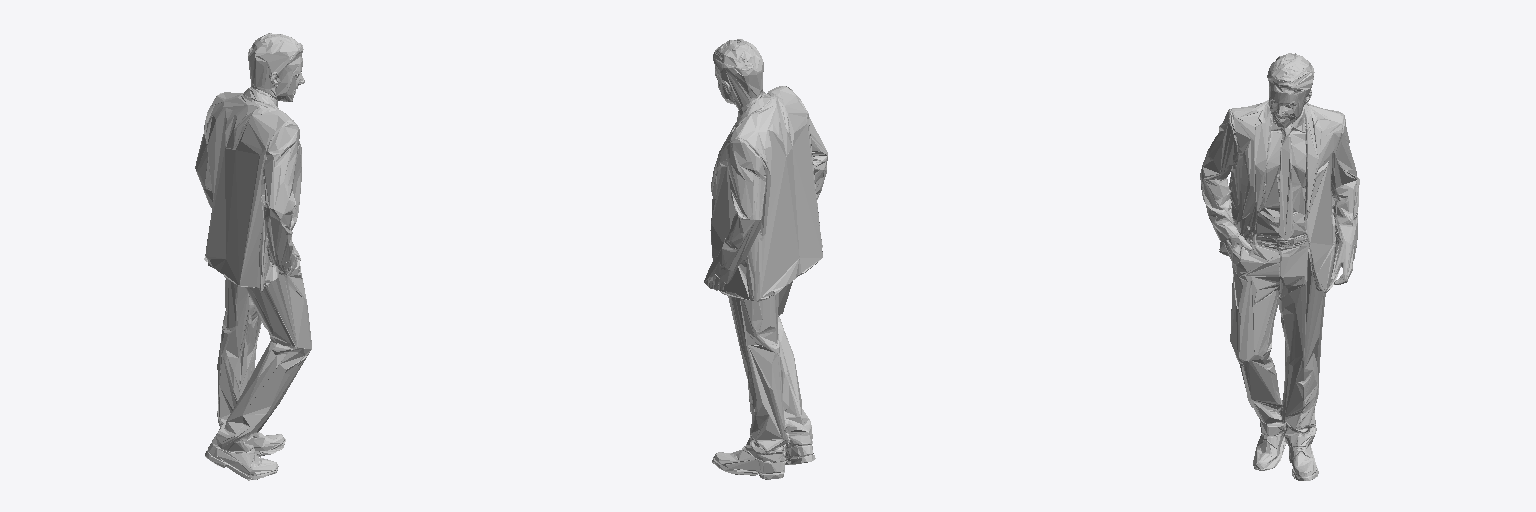
File: denis.obj
3 renders of one model, left to right at view 1: azimuth 30°, elevation 25°; view 2: azimuth 150°, elevation 25°; view 3: azimuth 270°, elevation 25°, orthographic.
Parts seen in each view (by area): view 1: denis; view 2: denis; view 3: denis.
Boxes of the visible parts, x1=… form: denis: x1=195, y1=33, x2=311, y2=480; denis: x1=704, y1=39, x2=827, y2=479; denis: x1=1200, y1=53, x2=1359, y2=480.
Size of the model in its own units: 0.6882 by 2.81 by 0.9629.